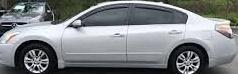Cars: (1, 3, 237, 74)
